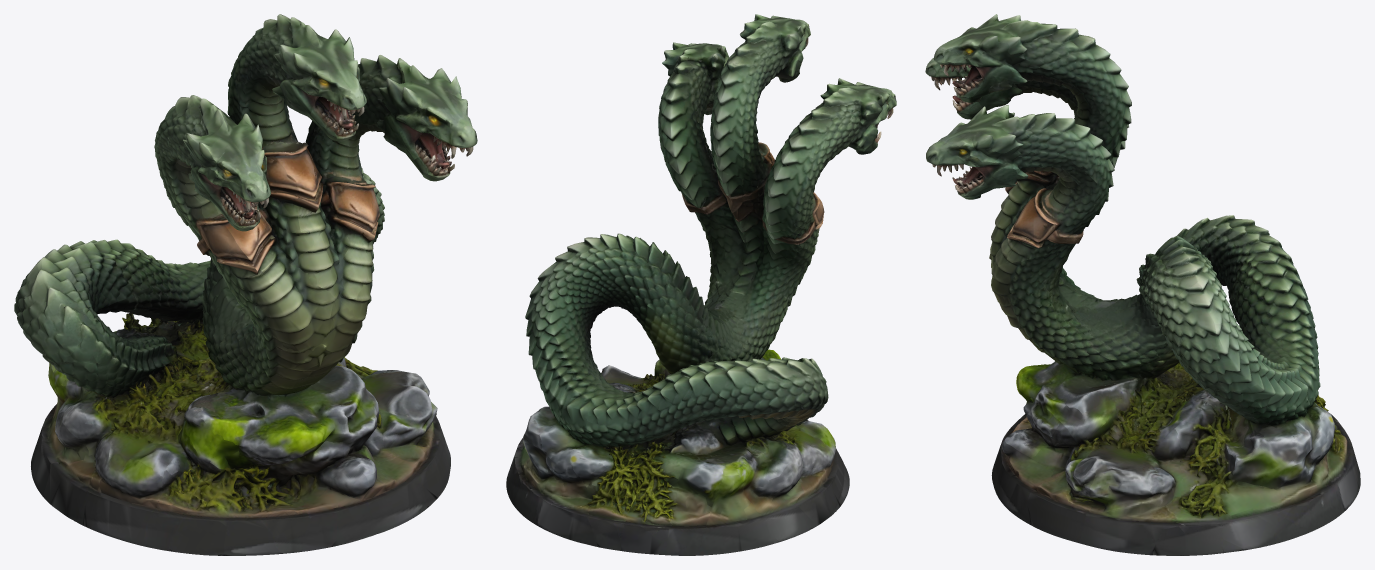
File: hydra__snake-hydra.glb
3 views of the same model, side by side, from view 1: azimuth 30°, elevation 25°; view 2: azimuth 150°, elevation 25°; view 3: azimuth 270°, elevation 25° (orthographic). The views are drawn at different scales.
Bounding box in the file's own units: 1.49 × 1.9 × 1.67.
1 material, 1 textured.
